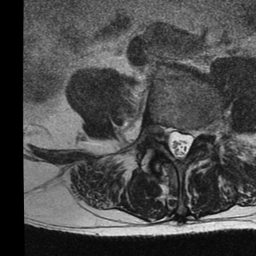CCS_normal: (174, 117, 183, 168)
LFS_stenosis: (194, 113, 204, 145)
LLS_normal: (183, 118, 194, 160)
RFS_normal: (154, 113, 165, 149)
RLS_normal: (165, 118, 175, 160)
